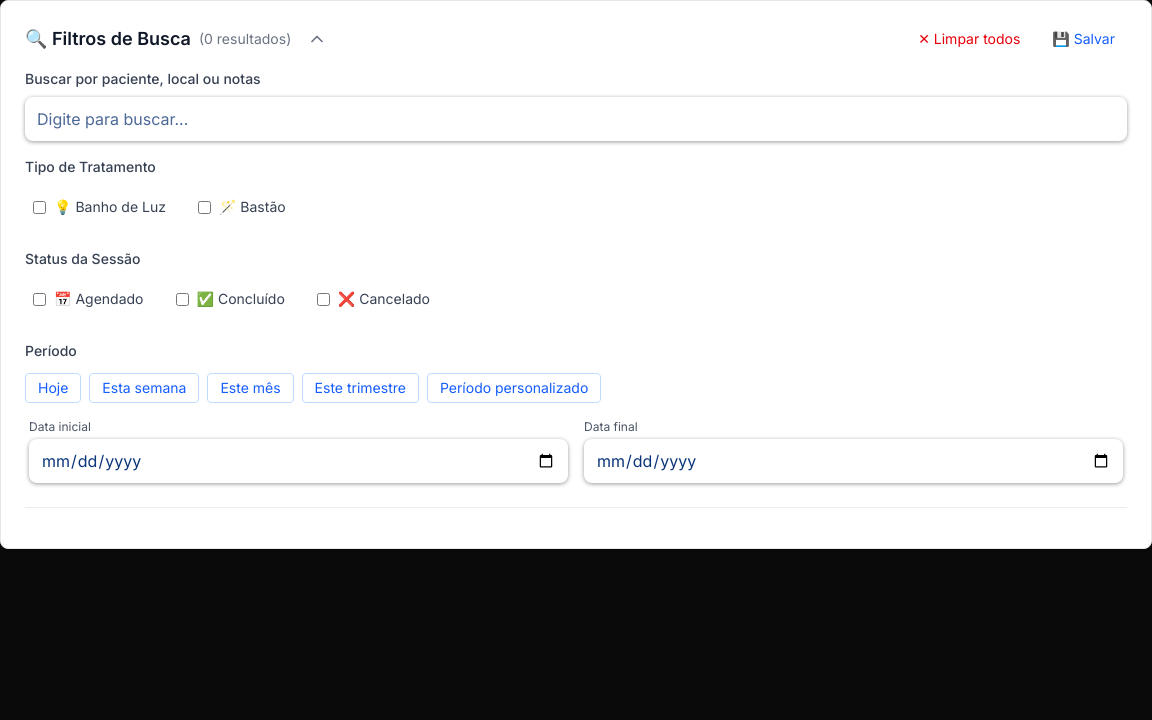
FilterBar Component › Save preset › should open save modal when save button is clicked
Click the button "💾 Salvar": (1084, 39) top-left (1040, 25), bottom-right (1127, 53)
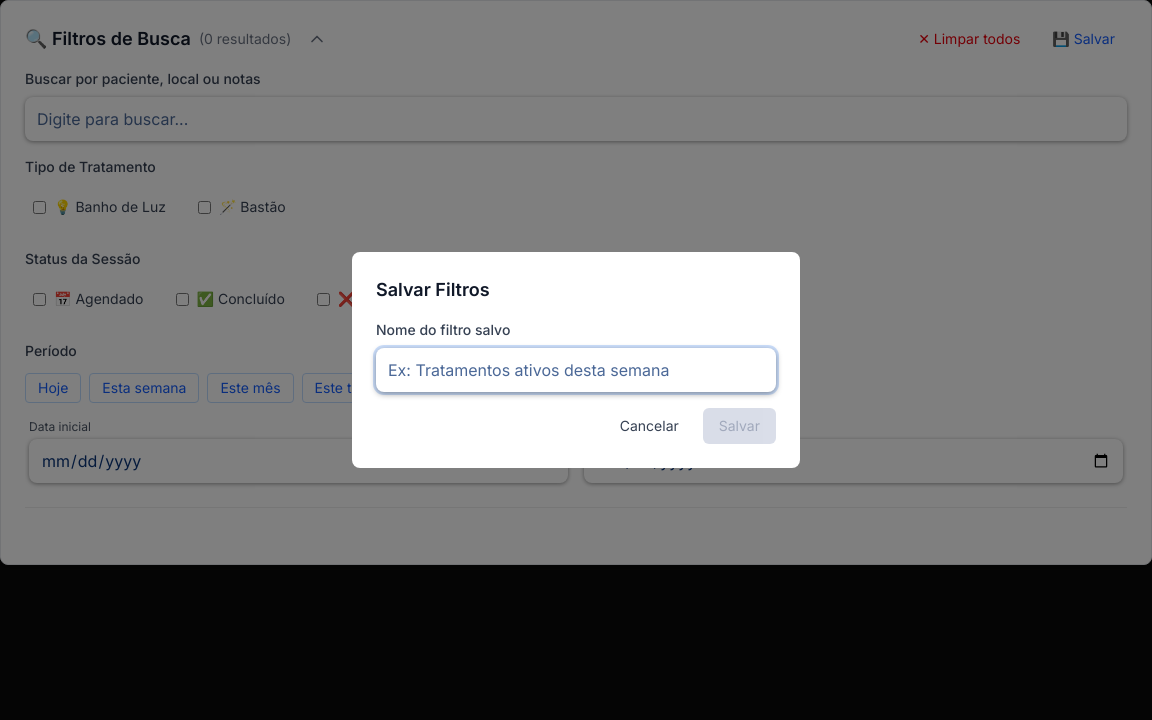
Expected: the heading "Salvar Filtros" is shown, top-left (376, 279), bottom-right (490, 300)
